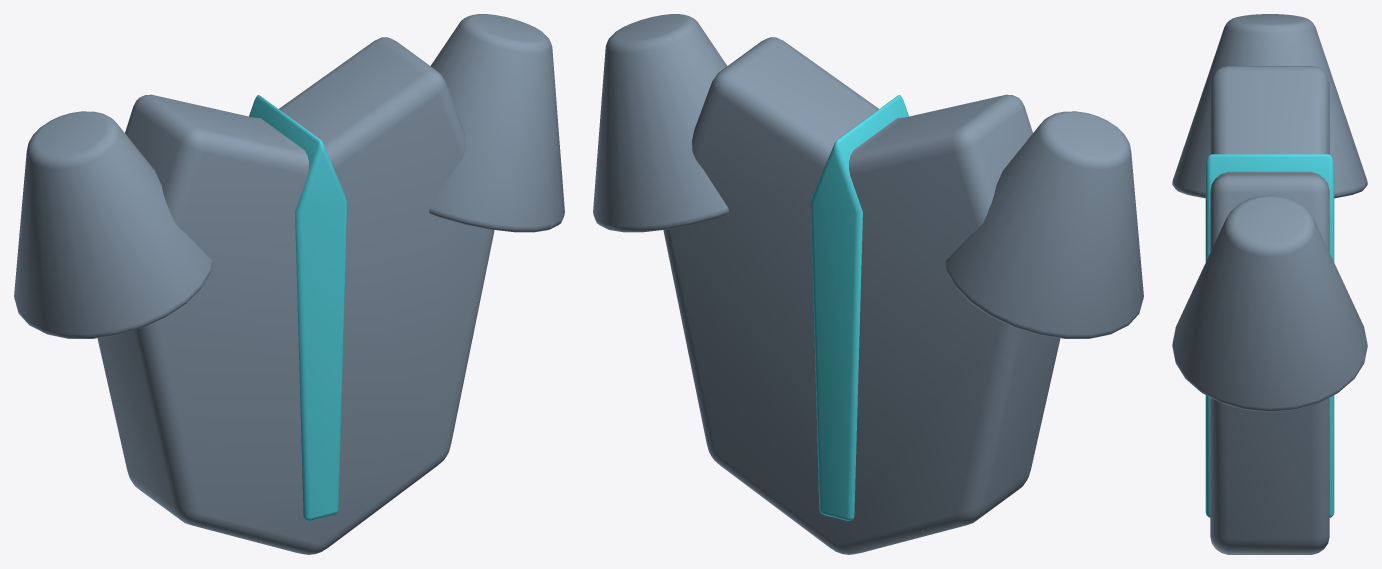
The model's file is cuirass_v5.glb.
The picture shows the model from 3 angles, left to right: view 1: azimuth 30°, elevation 25°; view 2: azimuth 150°, elevation 25°; view 3: azimuth 270°, elevation 25°; orthographic projection. The views are drawn at different scales.
Parts seen in each view (by area): view 1: GOTHIC_CHEST_PRIMARY, GOTHIC_PAULDRON_PRIMARY, GOTHIC_PAULDRON_PRIMARY.001, GOTHIC_RIDGE_ACCENT; view 2: GOTHIC_CHEST_PRIMARY, GOTHIC_PAULDRON_PRIMARY, GOTHIC_PAULDRON_PRIMARY.001, GOTHIC_RIDGE_ACCENT; view 3: GOTHIC_CHEST_PRIMARY, GOTHIC_PAULDRON_PRIMARY.001, GOTHIC_PAULDRON_PRIMARY, GOTHIC_RIDGE_ACCENT.
Part boxes in pixels (bbox=[...]): GOTHIC_CHEST_PRIMARY: bbox=[97, 37, 494, 554]; GOTHIC_PAULDRON_PRIMARY: bbox=[14, 111, 212, 338]; GOTHIC_PAULDRON_PRIMARY.001: bbox=[429, 14, 564, 232]; GOTHIC_RIDGE_ACCENT: bbox=[249, 95, 347, 520]; GOTHIC_CHEST_PRIMARY: bbox=[663, 37, 1060, 554]; GOTHIC_PAULDRON_PRIMARY: bbox=[945, 111, 1143, 338]; GOTHIC_PAULDRON_PRIMARY.001: bbox=[593, 14, 728, 232]; GOTHIC_RIDGE_ACCENT: bbox=[810, 95, 908, 520]; GOTHIC_CHEST_PRIMARY: bbox=[1210, 66, 1329, 554]; GOTHIC_PAULDRON_PRIMARY.001: bbox=[1172, 195, 1367, 411]; GOTHIC_PAULDRON_PRIMARY: bbox=[1172, 14, 1367, 198]; GOTHIC_RIDGE_ACCENT: bbox=[1205, 154, 1334, 517].
Bounding box in the file's own units: 2.4 × 2.04 × 0.8195.
